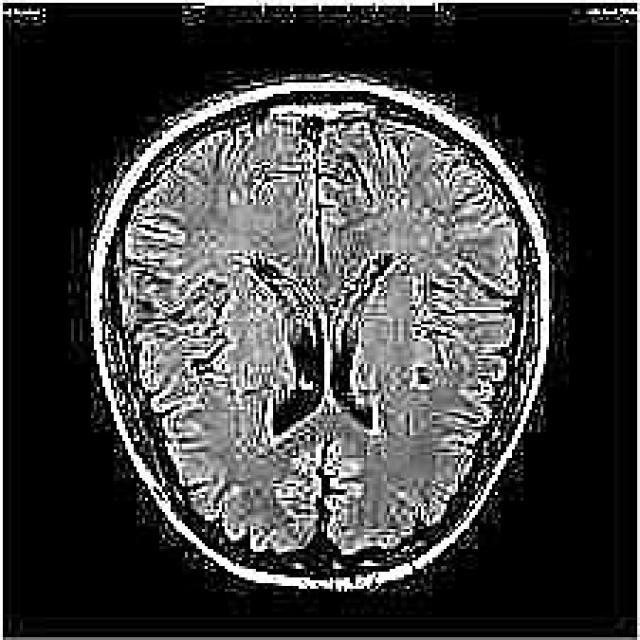notumor: (91, 74, 555, 589)
